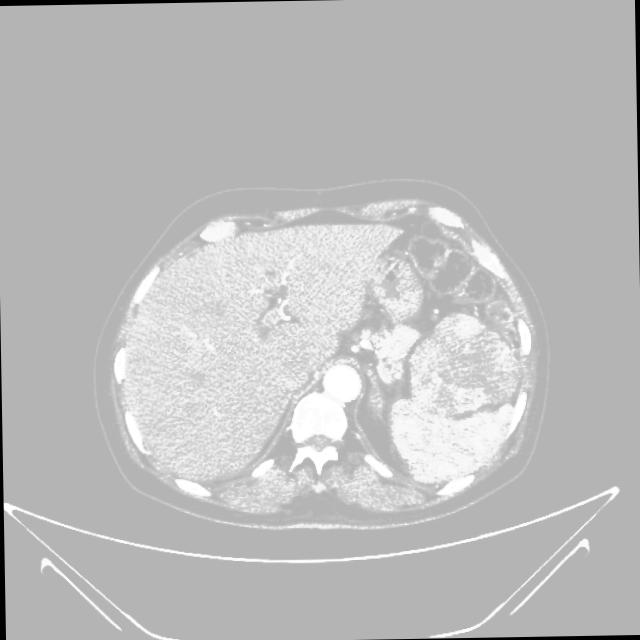TUMOR: (358, 241, 556, 468)
